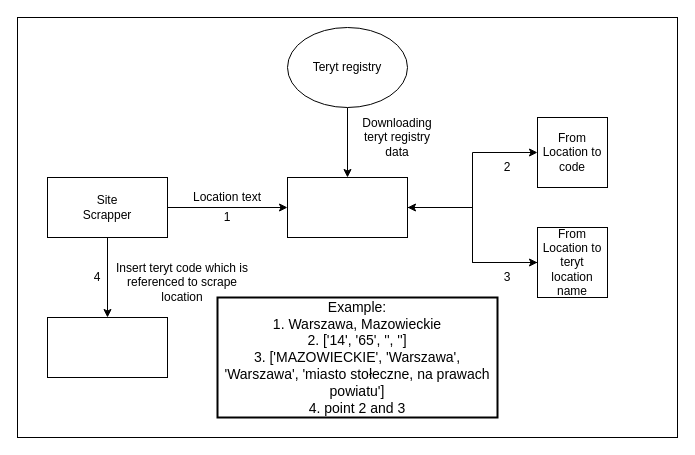
The diagram is 695 pixels wide and 455 high, and some of its shapes have lost their labels. Here are the shapes that lost their labels. From the top down, the centre of each, then its label:
At pixel 347 207: "Teryt engine".
At pixel 107 347: "Database table: teryt".
